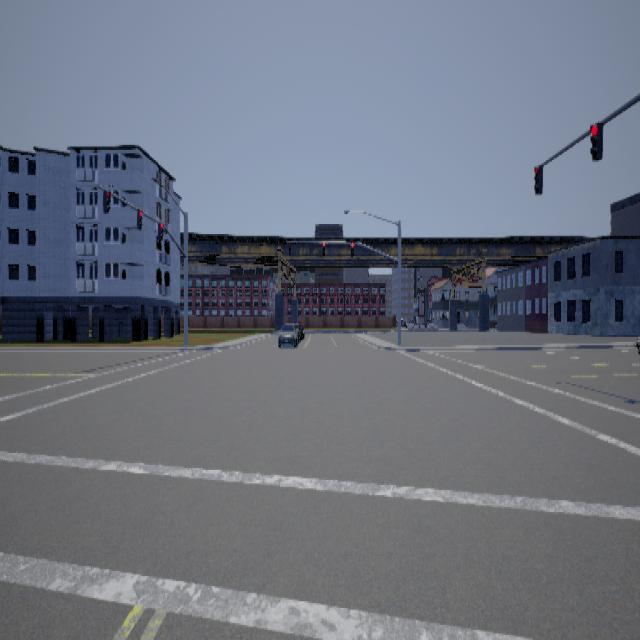red_light: (589, 120, 602, 160), (533, 163, 542, 194), (102, 189, 110, 212), (136, 207, 142, 229), (157, 221, 163, 239), (350, 241, 353, 256), (321, 241, 324, 254), (288, 241, 290, 254)
vehicle: (277, 320, 304, 347)
